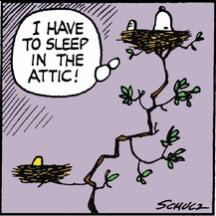snoopy: (125, 5, 175, 31)
